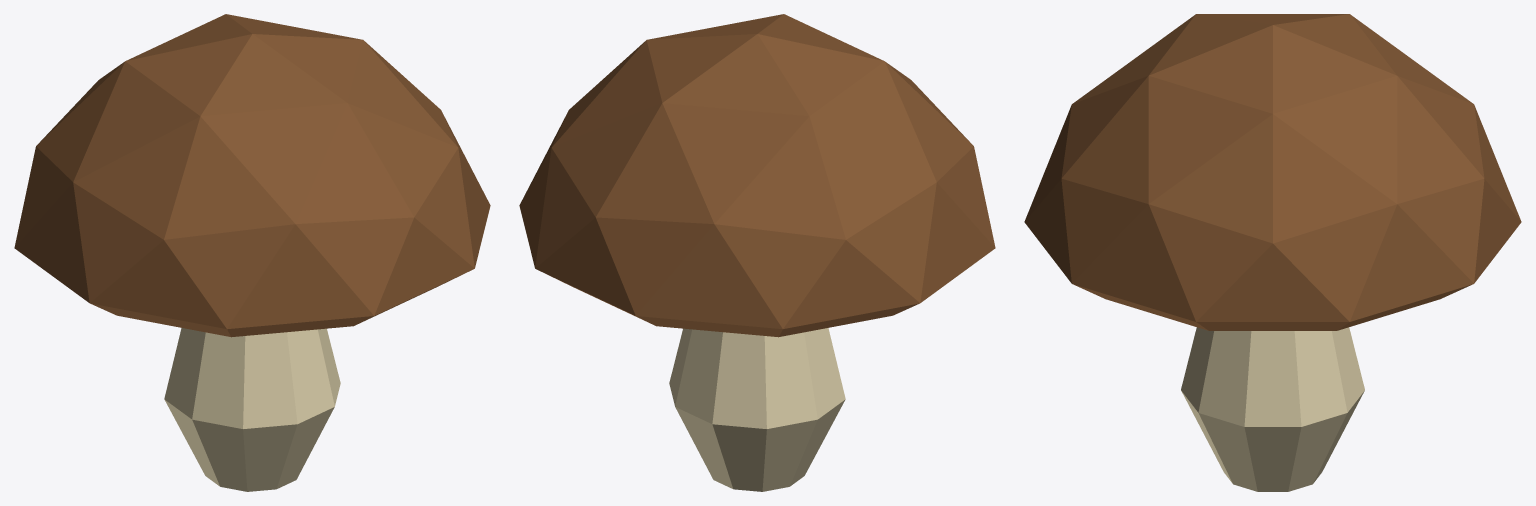
Rendered from mushroom.glb.
The picture shows the model from 3 angles, left to right: view 1: azimuth 30°, elevation 25°; view 2: azimuth 150°, elevation 25°; view 3: azimuth 270°, elevation 25°; orthographic projection. The views are drawn at different scales.
Parts seen in each view (by area): view 1: Icosphere; view 2: Icosphere; view 3: Icosphere.
Boxes of the visible parts, bbox=[...] form: Icosphere: bbox=[14, 14, 490, 491]; Icosphere: bbox=[519, 14, 995, 491]; Icosphere: bbox=[1024, 14, 1521, 491].
Size of the model in its own units: 1.9 by 1.98 by 2.
